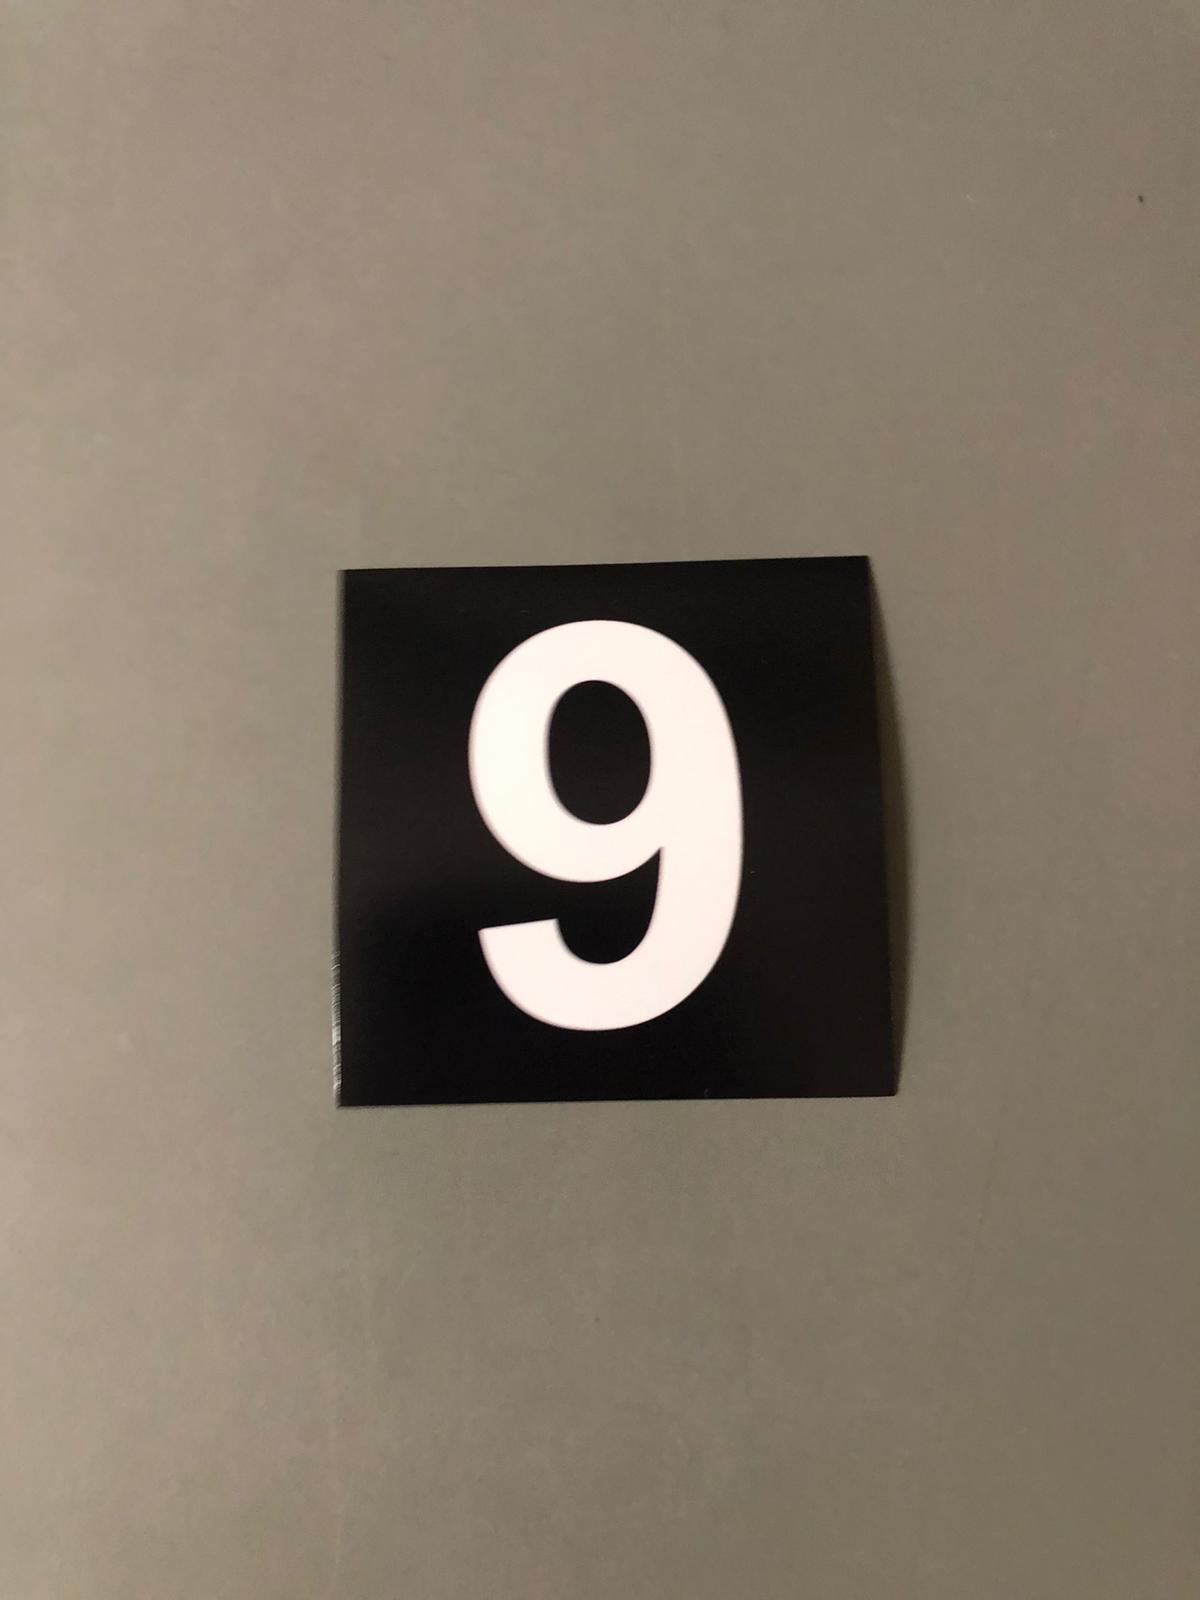Number 9: (308, 543, 932, 1125)
